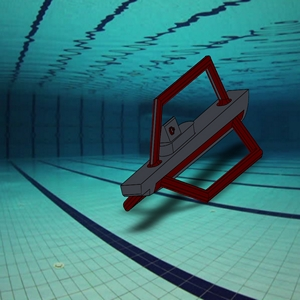submarine: (108, 50, 273, 226)
